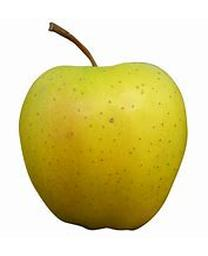apple: (19, 23, 188, 231)
